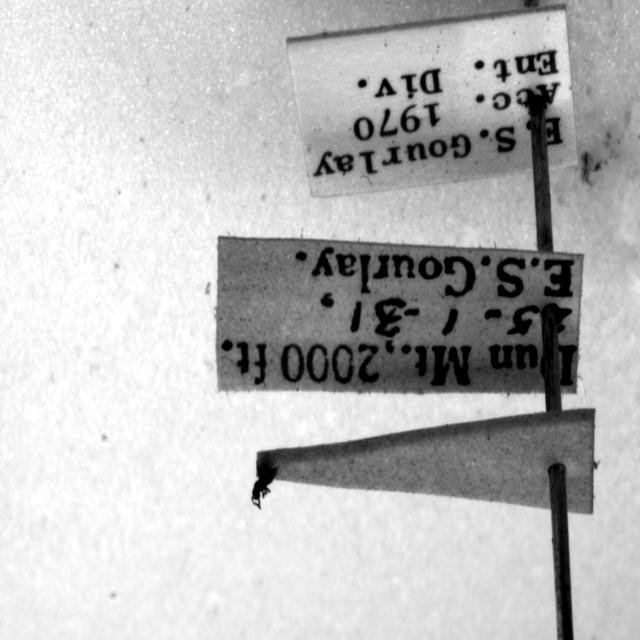mixed_label: (216, 236, 584, 394)
typed_label: (288, 8, 578, 197)
